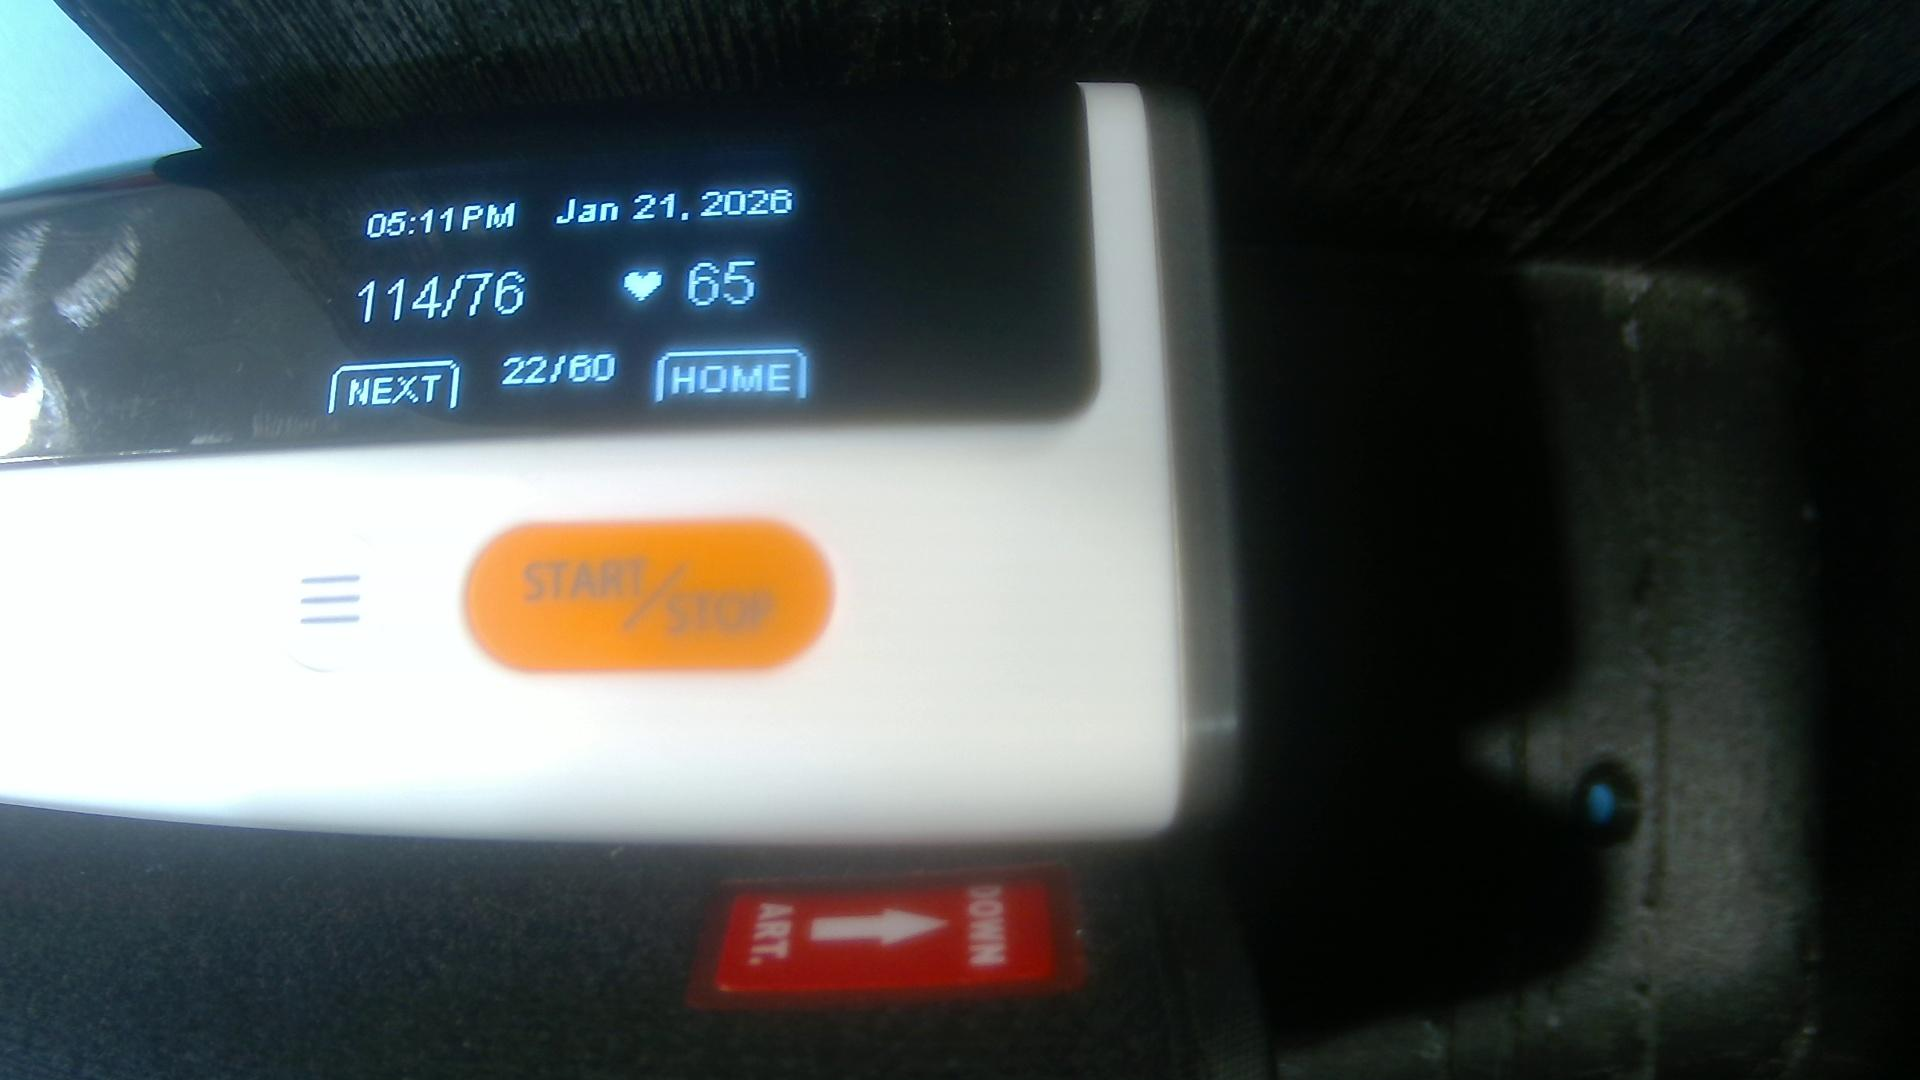DISPLAY: (5, 87, 1088, 460)
